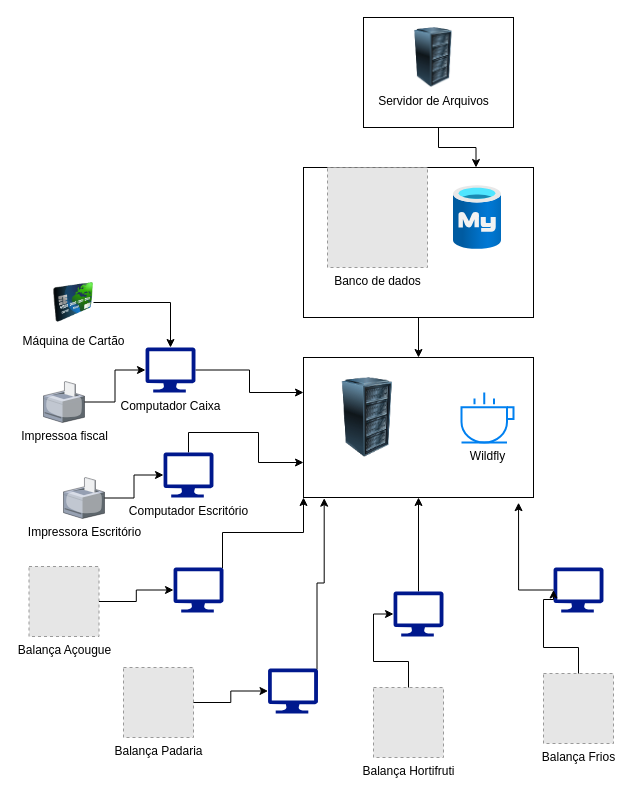
This 643x811 diagram has some shape labels left out. Grey dashed boxes stand in for pictures. The shapes that lost their labels are listed below. From the top down, each one's centre as x and y in pixels, then its label:
At point 477,217: "SQL Server".
At point 367,417: "Servidor de Aplicações".
At point 198,589: "Computador Açougue".
At point 578,589: "Computador Frios".
At point 418,613: "Computador HortiFruti".
At point 293,690: "Computador Padaria".
